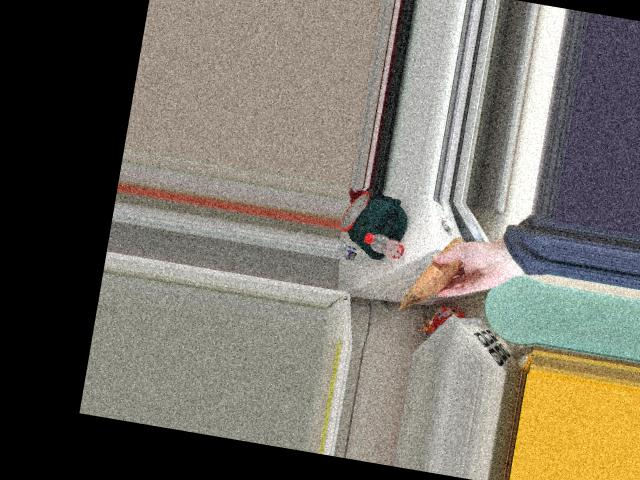sweet_potato: (411, 245, 462, 297)
